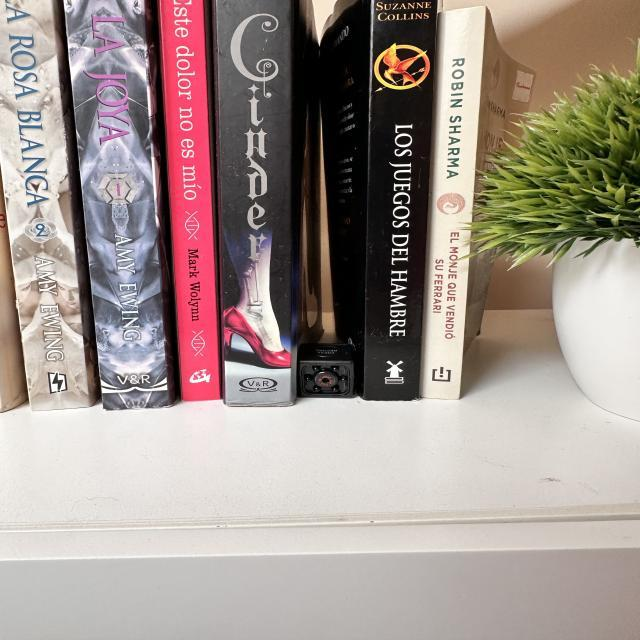hidden camera: (315, 372, 338, 387)
